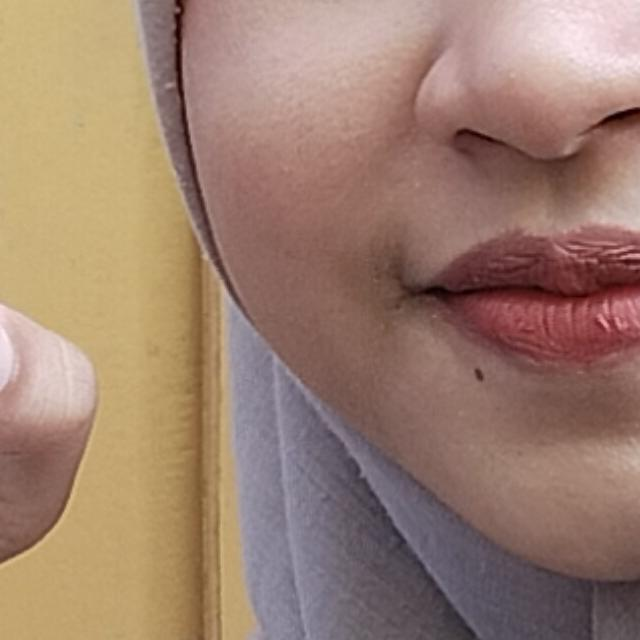baik: (0, 18, 490, 640)
